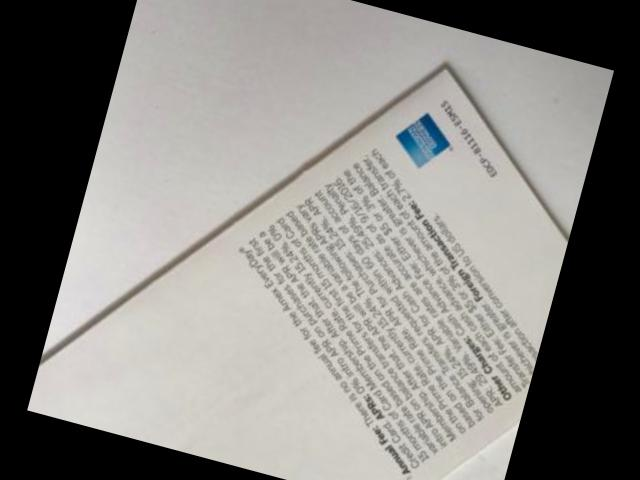cardboard paper: (26, 68, 567, 480)
